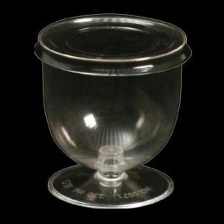glass: (26, 9, 195, 213)
